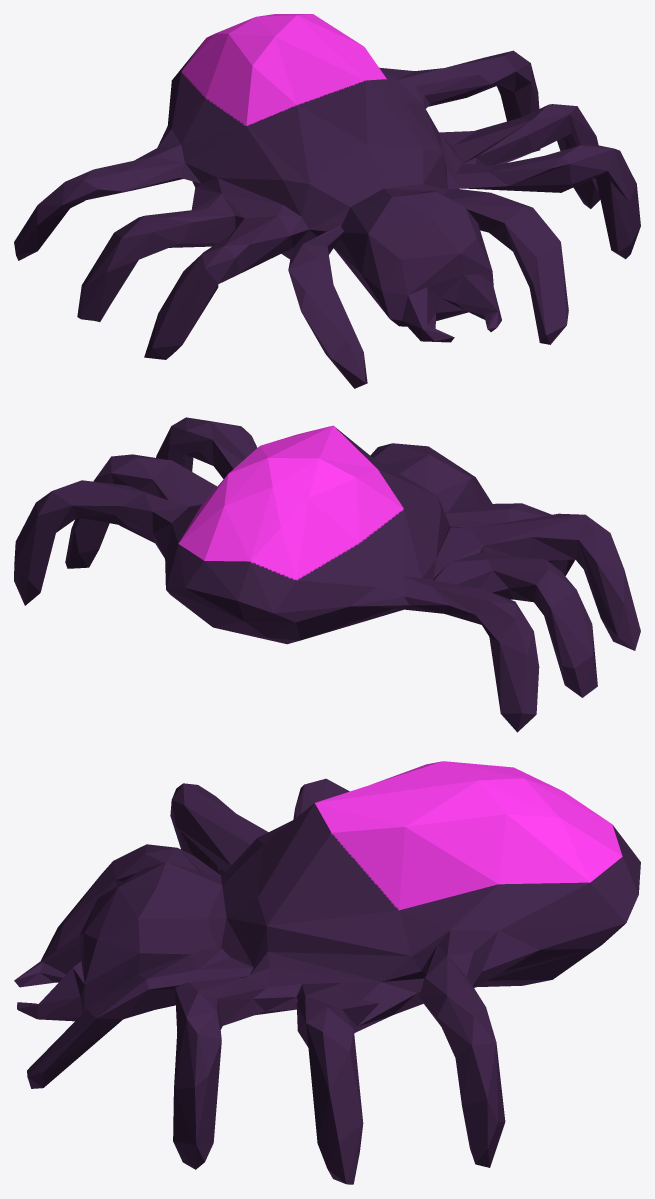
Rendered from aranya.obj.
3 views of the same model, one above another, from view 1: azimuth 30°, elevation 25°; view 2: azimuth 150°, elevation 25°; view 3: azimuth 270°, elevation 25° (orthographic). The views are drawn at different scales.
Parts seen in each view (by area): view 1: aranya_Cube.066; view 2: aranya_Cube.066; view 3: aranya_Cube.066.
Boxes of the visible parts, x1,y1,x2,y2 form: aranya_Cube.066: (14, 14, 640, 388); aranya_Cube.066: (14, 417, 640, 732); aranya_Cube.066: (14, 761, 640, 1184).
Size of the model in its own units: 36.71 by 14.5 by 30.71.
Materials: 1 (1 with a texture image).
